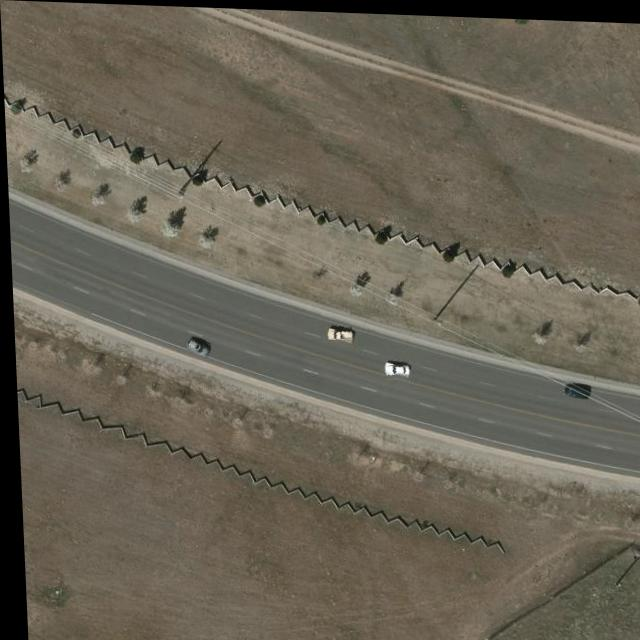vehicle: (380, 358, 408, 377), (323, 325, 352, 342), (183, 338, 209, 356), (560, 383, 586, 394)
